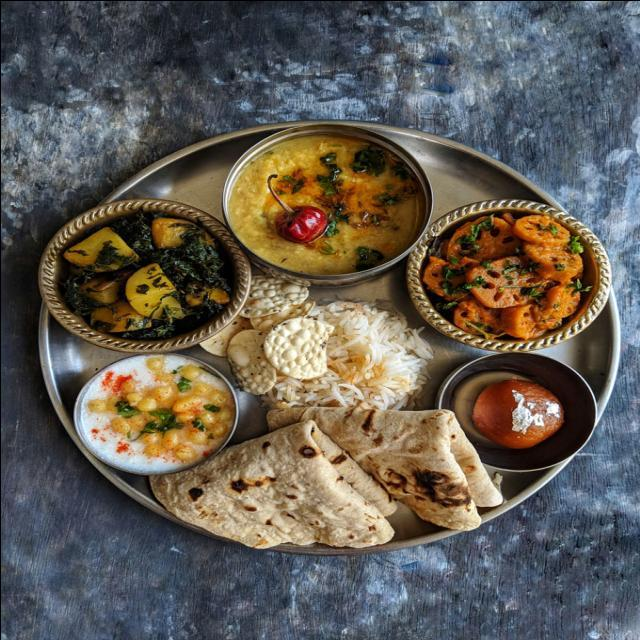rice: (264, 292, 434, 422)
roti: (223, 400, 530, 542), (143, 418, 417, 554)
sweet: (449, 349, 603, 468), (134, 216, 203, 250)
veg-fry: (231, 127, 438, 281), (403, 195, 606, 349), (64, 352, 243, 476)
